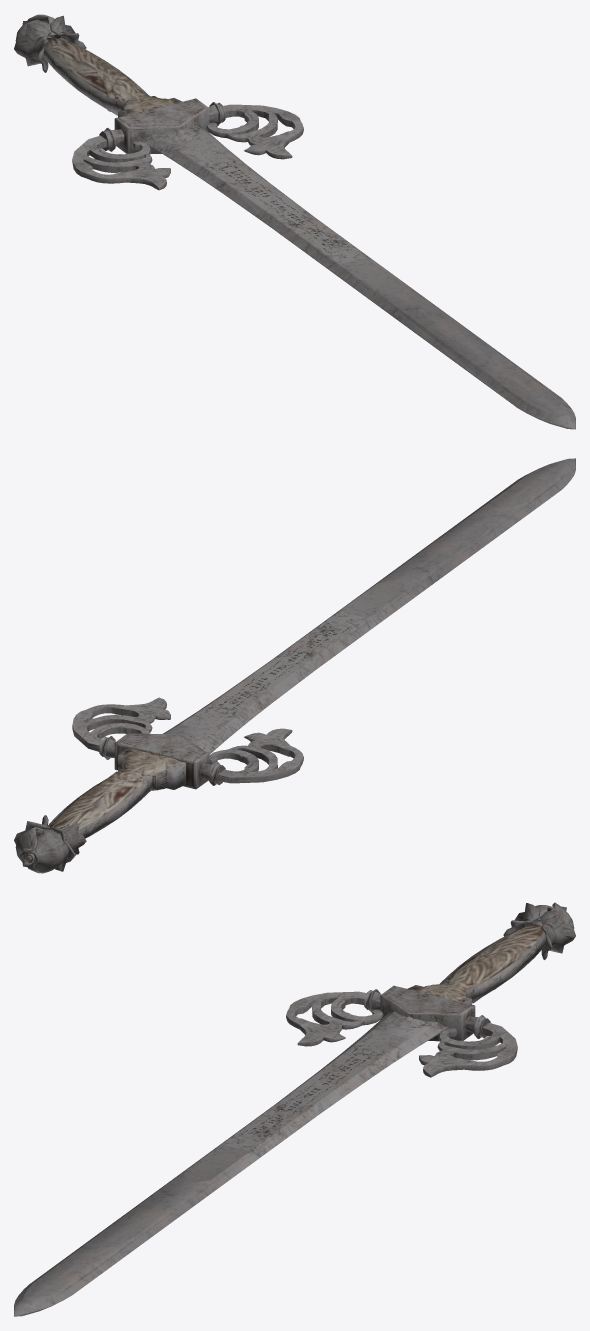
3 views of the same model, one above another, from view 1: azimuth 30°, elevation 25°; view 2: azimuth 150°, elevation 25°; view 3: azimuth 330°, elevation 25° (orthographic).
Visible parts, largest first — view 1: WP_A_0230; view 2: WP_A_0230; view 3: WP_A_0230.
Part boxes in pixels (x1,y1,x2,y2): WP_A_0230: (14,14,575,429); WP_A_0230: (14,458,575,873); WP_A_0230: (14,902,575,1316).
Bounding box in the file's own units: 20.97 × 3.86 × 90.55.
Materials: 1 (1 with a texture image).
